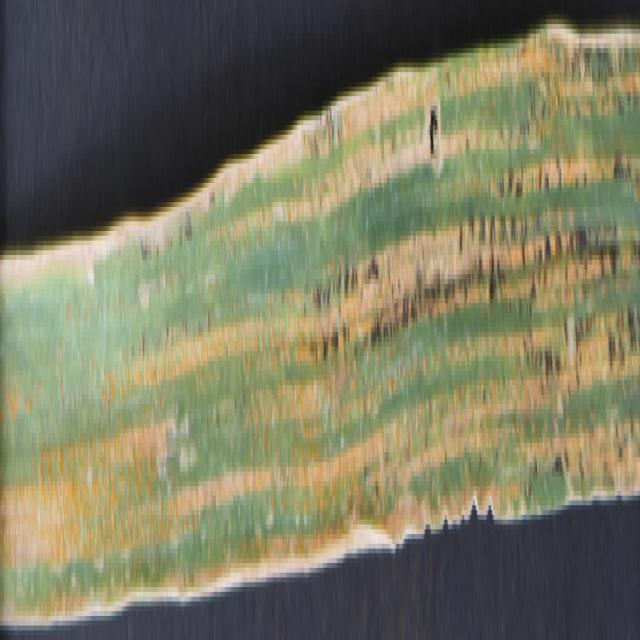leaf rust: (2, 34, 639, 548)
